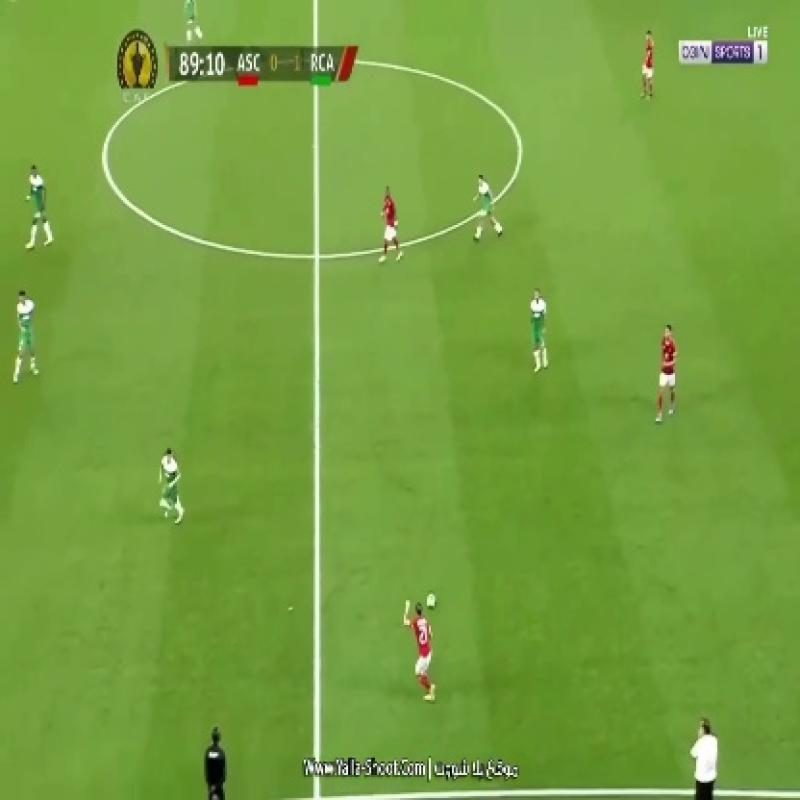14: (298, 42, 333, 76)
15: (302, 233, 331, 277)
16: (298, 784, 332, 800)
c: (503, 128, 538, 170), (86, 137, 121, 173)
